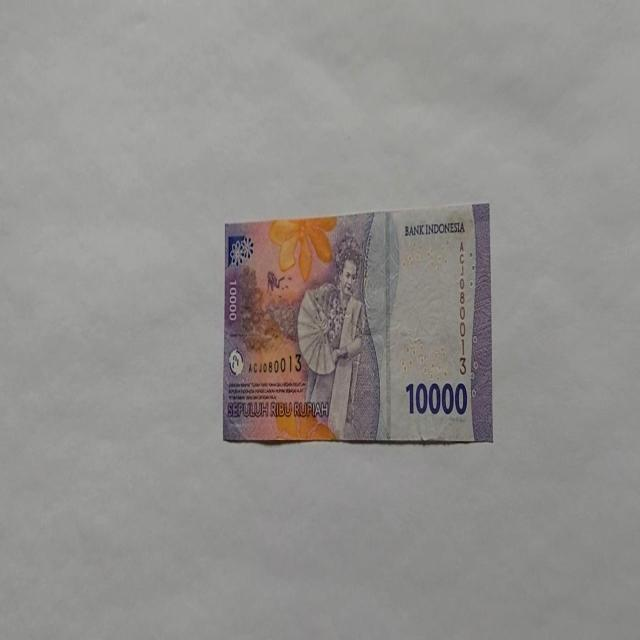Kertas: (222, 202, 492, 445), (404, 379, 468, 417)
